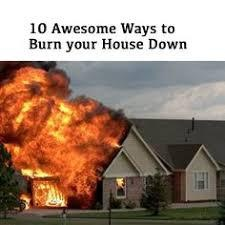fire: (0, 67, 126, 212)
